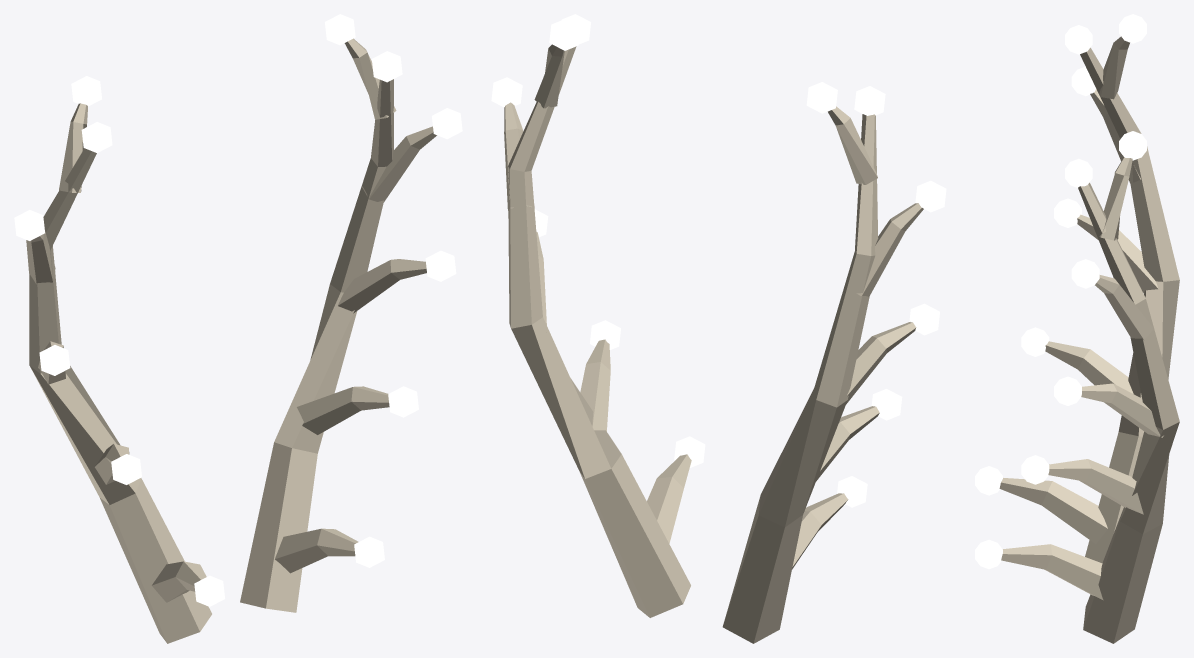
The model's file is stag-horn-brow.glb.
3 views of the same model, side by side, from view 1: azimuth 30°, elevation 25°; view 2: azimuth 150°, elevation 25°; view 3: azimuth 270°, elevation 25° (orthographic). The views are drawn at different scales.
Visible parts, largest first — view 1: horn_brow; view 2: horn_brow; view 3: horn_brow.
Part boxes in pixels (bbox=[...]): horn_brow: bbox=[14, 14, 462, 643]; horn_brow: bbox=[491, 14, 946, 643]; horn_brow: bbox=[975, 14, 1179, 643].
Bounding box in the file's own units: 0.4136 × 0.5094 × 0.1747.
